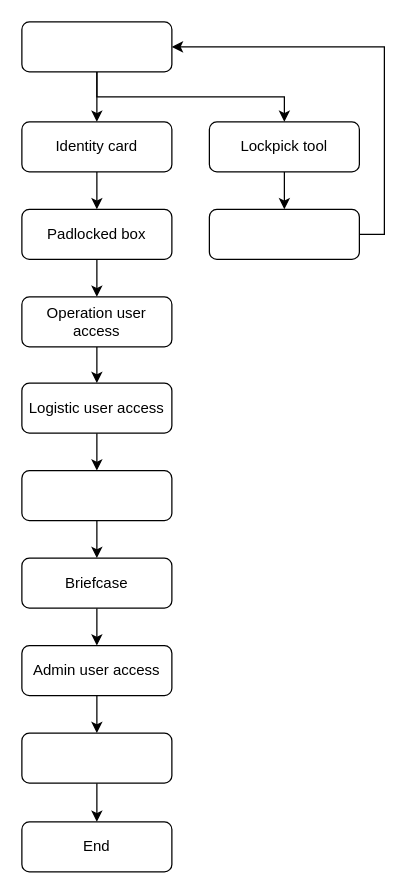
The diagram is 416 pixels wide and 894 high, and some of its shapes have lost their labels. The shapes that lost their labels are listed below. From the top down, each one's centre as x and y in pixels, then its label:
At (x=96, y=46): "Start".
At (x=283, y=233): "Unlock safe".
At (x=96, y=495): "Computer tools".
At (x=96, y=757): "Crime syndicate".
